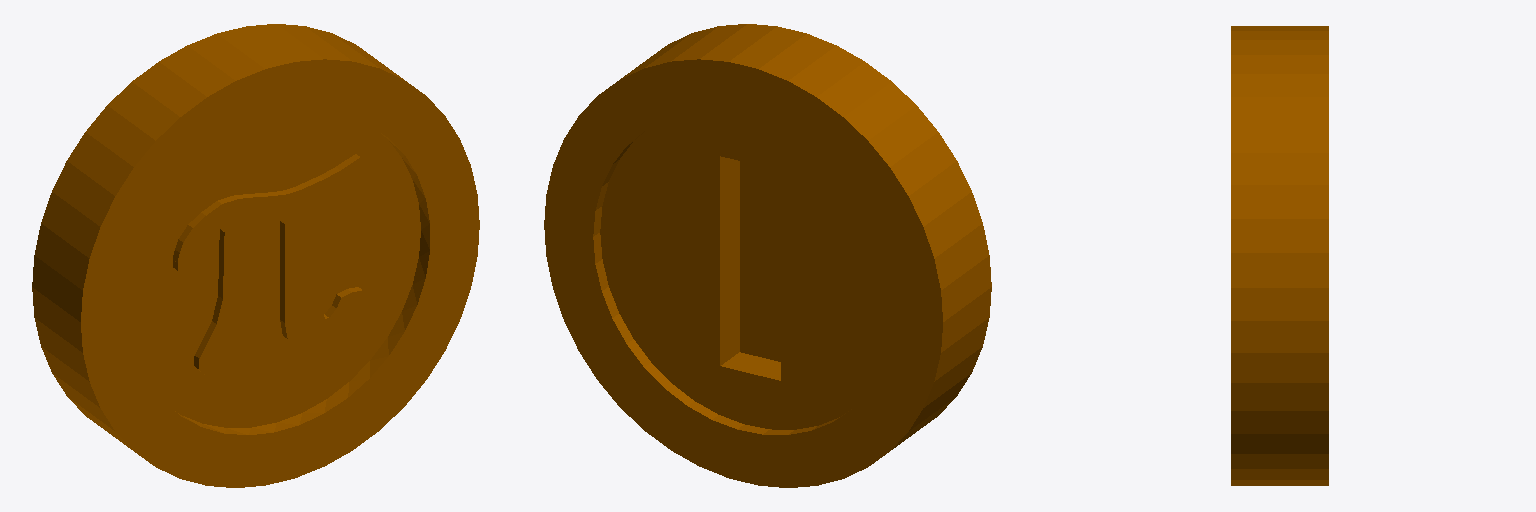
File: moneda.obj
3 renders of one model, left to right at view 1: azimuth 30°, elevation 25°; view 2: azimuth 150°, elevation 25°; view 3: azimuth 270°, elevation 25°, orthographic.
Parts seen in each view (by area): view 1: monedaPI-3; view 2: monedaPI-3; view 3: monedaPI-3.
Part boxes in pixels (x1,y1,x2,y2): monedaPI-3: (32, 24, 479, 487); monedaPI-3: (544, 24, 991, 487); monedaPI-3: (1231, 26, 1328, 485).
Size of the model in its own units: 1.83 by 1.82 by 0.3858.